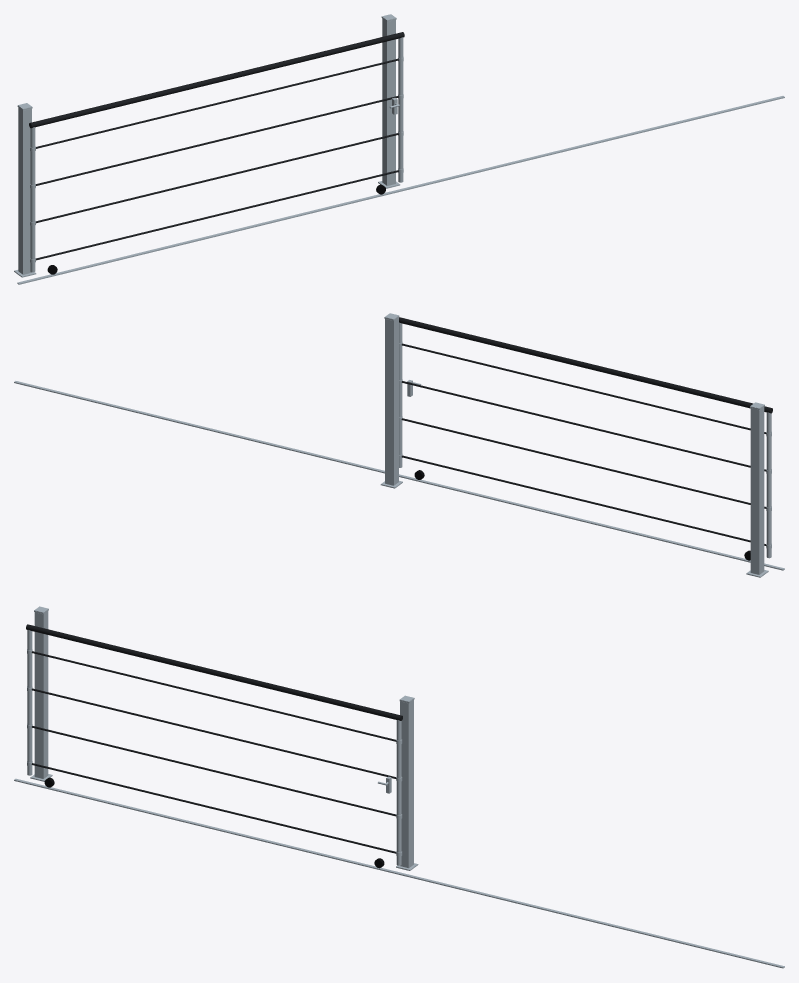
The model's file is 04-klizna.glb.
The picture shows the model from 3 angles, top to bottom: view 1: azimuth 30°, elevation 25°; view 2: azimuth 150°, elevation 25°; view 3: azimuth 330°, elevation 25°; orthographic projection.
Visible parts, largest first — view 1: Okov_vodilica_demo.003, Ram_rukohvat.004, Stub_levi.015, Stub_desni.015, Ispuna_okrugla_precka.017, Ispuna_okrugla_precka.016, Ispuna_okrugla_precka.019, Ispuna_okrugla_precka.018, Ram_inox_uspravni.008, Ram_inox_uspravni.009; view 2: Okov_vodilica_demo.003, Stub_levi.015, Stub_desni.015, Ram_rukohvat.004, Ispuna_okrugla_precka.016, Ispuna_okrugla_precka.018, Ispuna_okrugla_precka.019, Ispuna_okrugla_precka.017, Ram_inox_uspravni.008, Ram_inox_uspravni.009; view 3: Okov_vodilica_demo.003, Ram_rukohvat.004, Stub_levi.015, Stub_desni.015, Ispuna_okrugla_precka.019, Ispuna_okrugla_precka.016, Ispuna_okrugla_precka.017, Ispuna_okrugla_precka.018, Ram_inox_uspravni.008, Ram_inox_uspravni.009.
Part boxes in pixels (x1=…): Okov_vodilica_demo.003: x1=17, y1=96, x2=784, y2=284; Ram_rukohvat.004: x1=29, y1=32, x2=404, y2=128; Stub_levi.015: x1=18, y1=107, x2=31, y2=274; Stub_desni.015: x1=382, y1=18, x2=395, y2=185; Ispuna_okrugla_precka.017: x1=36, y1=133, x2=398, y2=223; Ispuna_okrugla_precka.016: x1=36, y1=170, x2=398, y2=260; Ispuna_okrugla_precka.019: x1=36, y1=58, x2=398, y2=148; Ispuna_okrugla_precka.018: x1=36, y1=96, x2=398, y2=185; Ram_inox_uspravni.008: x1=30, y1=127, x2=35, y2=272; Ram_inox_uspravni.009: x1=398, y1=37, x2=403, y2=182; Okov_vodilica_demo.003: x1=14, y1=381, x2=784, y2=570; Stub_levi.015: x1=750, y1=407, x2=764, y2=574; Stub_desni.015: x1=385, y1=317, x2=398, y2=485; Ram_rukohvat.004: x1=399, y1=317, x2=772, y2=413; Ispuna_okrugla_precka.016: x1=401, y1=455, x2=766, y2=545; Ispuna_okrugla_precka.018: x1=401, y1=381, x2=766, y2=471; Ispuna_okrugla_precka.019: x1=401, y1=343, x2=766, y2=433; Ispuna_okrugla_precka.017: x1=401, y1=418, x2=766, y2=508; Ram_inox_uspravni.008: x1=766, y1=412, x2=771, y2=558; Ram_inox_uspravni.009: x1=399, y1=322, x2=402, y2=467; Okov_vodilica_demo.003: x1=14, y1=778, x2=784, y2=968; Ram_rukohvat.004: x1=26, y1=624, x2=402, y2=720; Stub_levi.015: x1=34, y1=611, x2=48, y2=778; Stub_desni.015: x1=400, y1=700, x2=413, y2=868; Ispuna_okrugla_precka.019: x1=31, y1=651, x2=396, y2=741; Ispuna_okrugla_precka.016: x1=31, y1=763, x2=396, y2=853; Ispuna_okrugla_precka.017: x1=32, y1=726, x2=396, y2=816; Ispuna_okrugla_precka.018: x1=31, y1=688, x2=396, y2=778; Ram_inox_uspravni.008: x1=27, y1=630, x2=32, y2=775; Ram_inox_uspravni.009: x1=396, y1=720, x2=401, y2=865.
Size of the model in its own units: 8.63 by 1.8 by 0.38.
